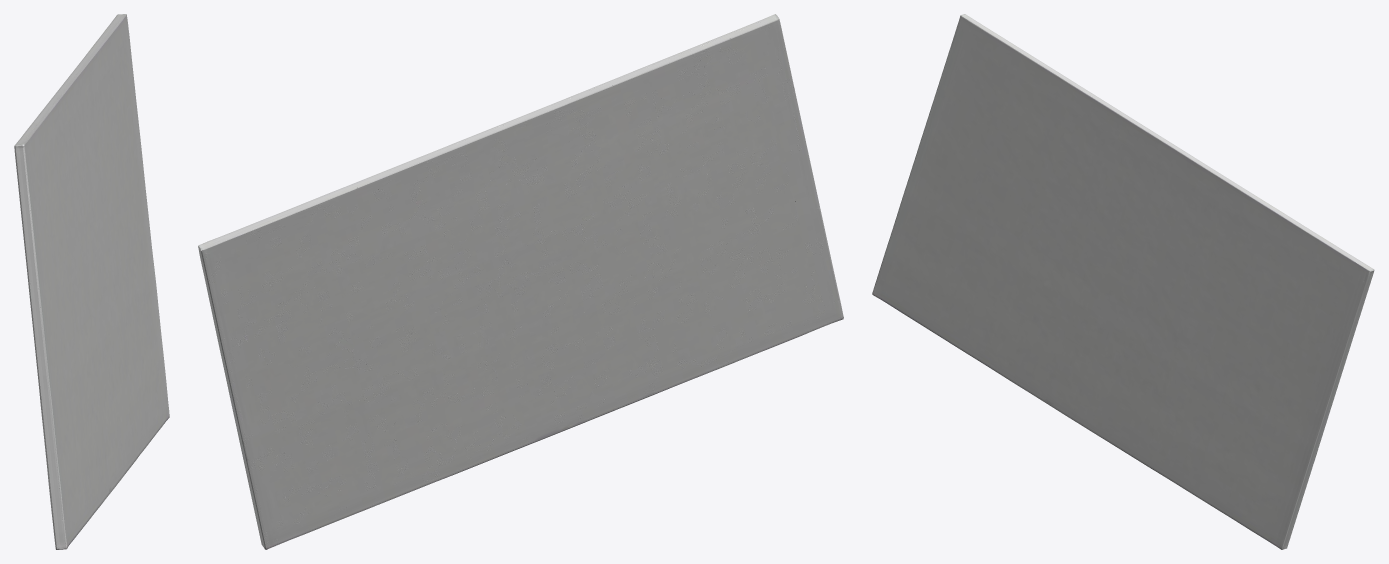
The model's file is white_whiteboard_on_wall_000.glb.
3 views of the same model, side by side, from view 1: azimuth 30°, elevation 25°; view 2: azimuth 150°, elevation 25°; view 3: azimuth 270°, elevation 25° (orthographic). The views are drawn at different scales.
Visible parts, largest first — view 1: white_whiteboard_on_wall_000.obj; view 2: white_whiteboard_on_wall_000.obj; view 3: white_whiteboard_on_wall_000.obj.
Boxes of the visible parts, x1=… form: white_whiteboard_on_wall_000.obj: x1=14, y1=14, x2=169, y2=549; white_whiteboard_on_wall_000.obj: x1=198, y1=14, x2=843, y2=549; white_whiteboard_on_wall_000.obj: x1=872, y1=14, x2=1374, y2=549.
Size of the model in its own units: 0.8068 by 1.02 by 1.16.
1 material, 1 textured.
